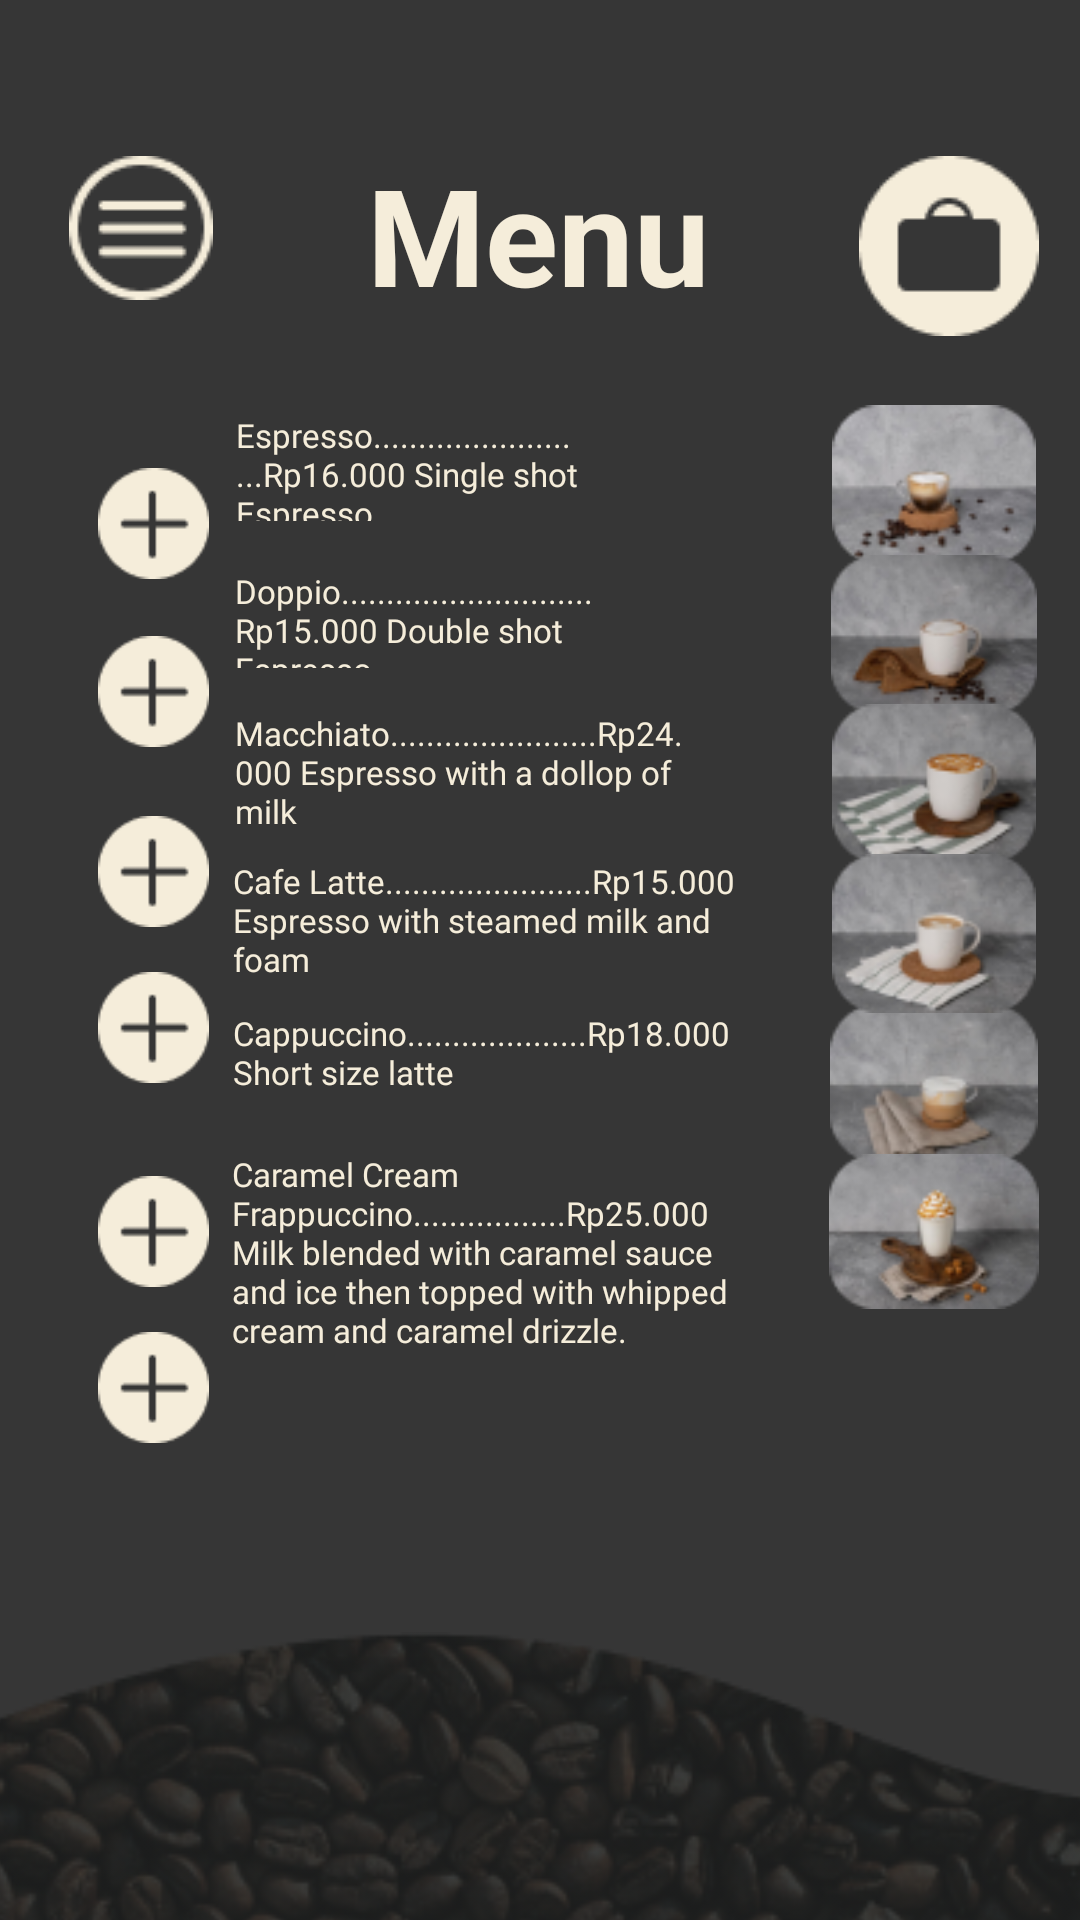

Icons on this 1080*1920 Android screen, each with the point to tap as (x,y):
machiat: (934,783)
order: (949,246)
